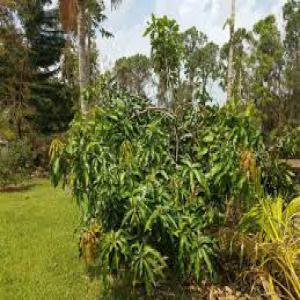Tree: (47, 15, 268, 280)
